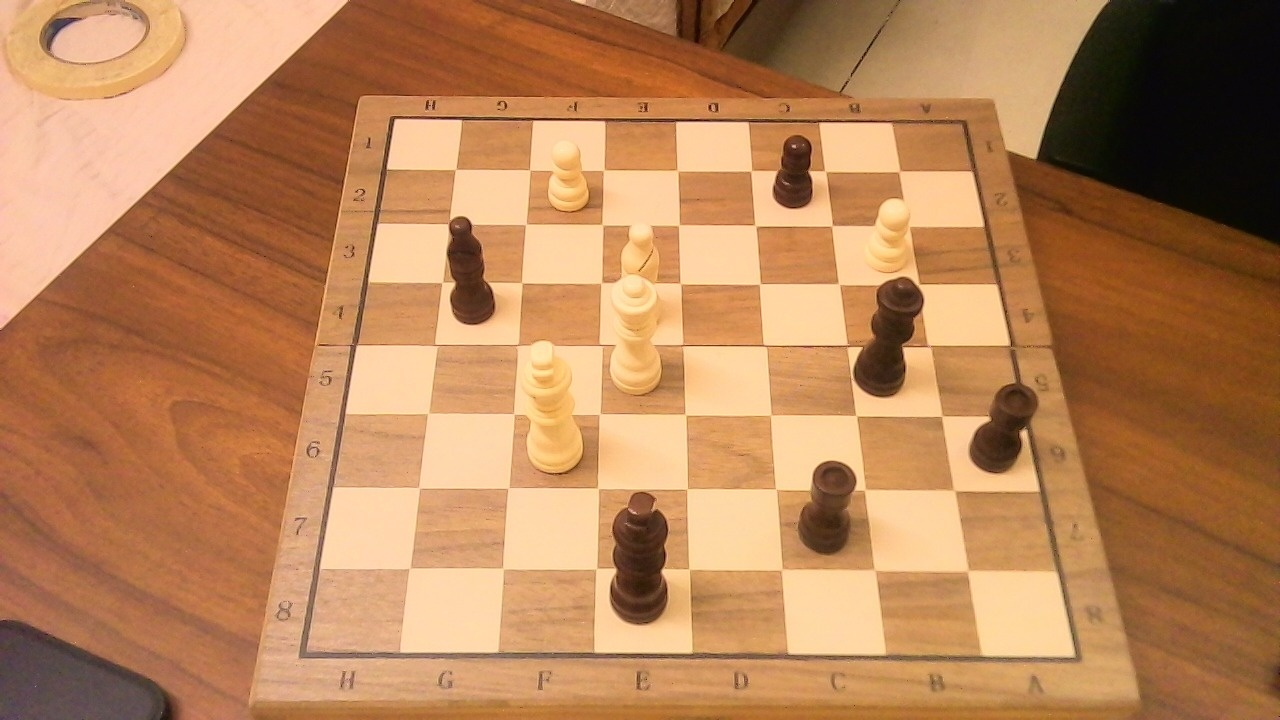B: (608, 212, 667, 317)
K: (516, 329, 592, 478)
P: (857, 189, 918, 276), (538, 131, 595, 215)
Q: (604, 263, 673, 399)
b: (442, 204, 509, 329)
k: (602, 475, 685, 630)
p: (765, 124, 825, 213)
q: (852, 263, 936, 403)
r: (963, 370, 1047, 478), (791, 448, 868, 558)
